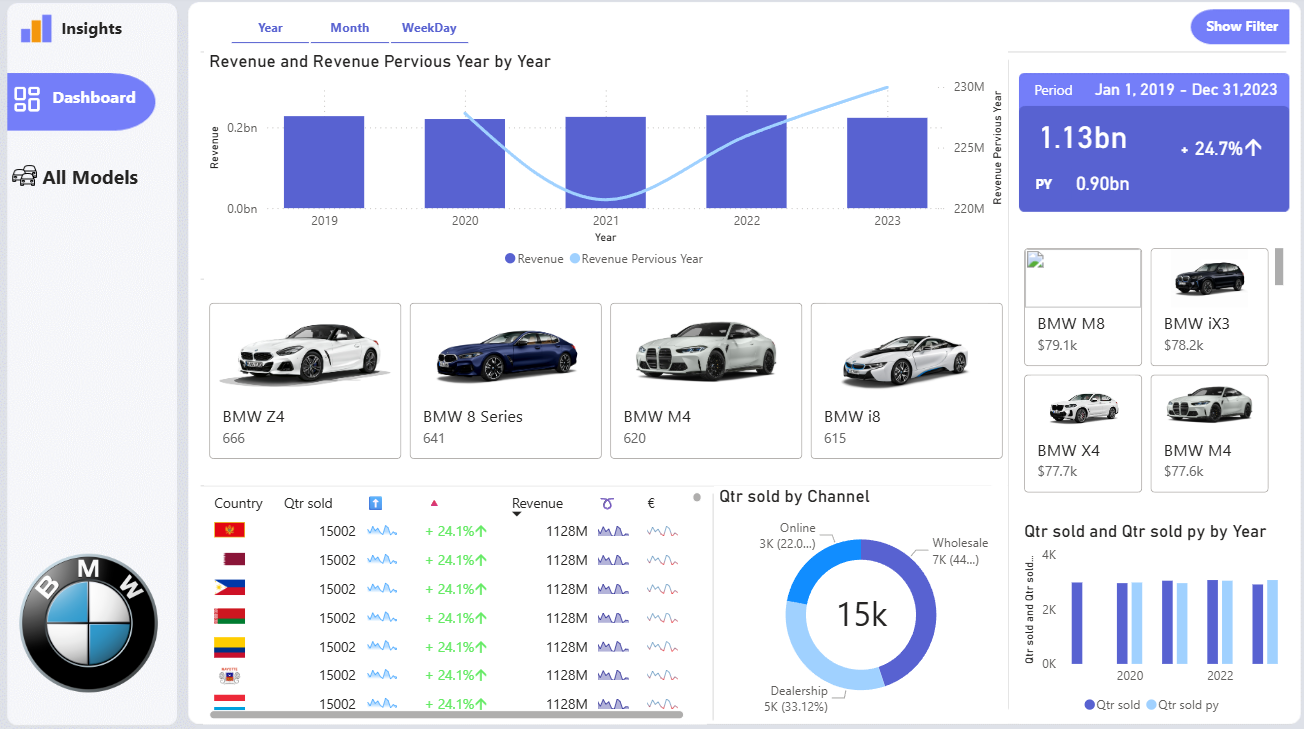

What the dashboard file says about the page in this screenshot:
{"tool":"powerbi","page":{"name":"Dashboard","canvas":[1280,720],"ordinal":0},"visuals":[{"type":"shape","box":[862.8,48.1,363.6,420.9],"z":0,"group":"g1"},{"type":"lineClusteredColumnComboChart","fields":{"Category":["Calendar.Year","Calendar.Month","Calendar.WeekDay"],"Y":["All Measures.Revenue"],"Y2":["All Measures.Revenue Pervious Year"]},"box":[201.8,54,782.4,219.8],"z":0},{"type":"slicer","fields":{"Values":["Parameter.Parameter"]},"box":[201.8,7,281.8,47],"z":1000},{"type":"actionButton","box":[943.9,384.6,200.2,49.8],"z":1000,"group":"g1"},{"type":"card","fields":{"Values":["All Measures.Revenue"]},"box":[995.2,105.9,123.9,58],"z":2000},{"type":"slicer","fields":{"Values":["dimModel.Model"]},"box":[1061.9,206.1,149.3,92],"z":2000,"group":"g1"},{"type":"slicer","fields":{"Values":["dimChannel.Channel"]},"box":[884.4,114.1,150.4,87.6],"z":3000,"group":"g1"},{"type":"card","fields":{"Values":["All Measures.Revenue Pervious Year"]},"box":[1034.2,163.9,84.9,38],"z":3000},{"type":"textbox","box":[1005.2,166.9,41,31],"z":4000},{"type":"slicer","fields":{"Values":["dimCountry.Region"]},"box":[884.4,208.2,150.4,89.8],"z":4000,"group":"g1"},{"type":"card","fields":{"Values":["All Measures.Revenue Variance % Arrow"]},"box":[1129.1,125.9,119.9,46],"z":5000},{"type":"slicer","fields":{"Values":["dimCountry.Country"]},"box":[894.2,308.9,311.6,86.6],"z":5000,"group":"g1"},{"type":"actionButton","box":[894.2,69.7,41.1,30.3],"z":6000,"group":"g1"},{"type":"card","fields":{"Values":["All Measures.Selected Period"]},"box":[1036.2,76.9,243.8,29],"z":6000},{"type":"textbox","box":[1005.2,76.9,58,33],"z":7000},{"type":"slicer","fields":{"Values":["Calendar.Year"]},"box":[1061.9,117.3,150.4,82.2],"z":7000,"group":"g1"},{"type":"advancedSlicerVisual","fields":{"Values":["dimModel.Model"]},"box":[201.8,273.8,782.4,202.8],"z":8000},{"type":"advancedSlicerVisual","fields":{"Values":["dimModel.Model"]},"box":[995,240,262,249],"z":9000},{"type":"clusteredColumnChart","fields":{"Y":["All Measures.Qtr sold","All Measures.Qtr sold py"],"Category":["Calendar.Year"]},"box":[995,511,262,197],"z":10000},{"type":"donutChart","fields":{"Y":["All Measures.Qtr sold"],"Category":["dimChannel.Channel"]},"box":[698.4,476.6,286,231.5],"z":11000},{"type":"textbox","box":[800.5,572.9,82.7,61.3],"z":12000},{"type":"tableEx","fields":{"Values":["Countries with Flags URL.Flag","All Measures.Qtr sold","All Measures.Opaque Area Sparkline (no one value) bright","All Measures.Qtr sold Variance % Arrow","All Measures.Revenue","All Measures.Revenue Sparkline","All Measures.Qtr sold Sparkline"]},"box":[201.7,477.3,489.7,230.8],"z":13000},{"type":"textbox","box":[49.2,81.3,104.9,37.5],"z":14000},{"type":"image","box":[10.7,77.1,38.5,47.1],"z":15000},{"type":"textbox","box":[39.6,157.3,114.5,40.7],"z":16000},{"type":"image","box":[6.4,157.3,42.8,34.2],"z":17000},{"type":"actionButton","box":[6.4,154.1,139.1,39.6],"z":18000},{"type":"actionButton","box":[1162.7,7.6,99.6,40.4],"z":19000},{"type":"group","id":"g1","title":"Group 1","box":[862.8,48.1,364.1,420.9],"z":20000},{"type":"image","box":[17.3,518.2,145.4,183],"z":21000},{"type":"image","box":[12.5,8.7,53.9,43.3],"z":22000},{"type":"textbox","box":[58.8,14.4,79,38.5],"z":23000}]}

Visuals, with their boxes in screenshot pixels (x1, y1, x2, y2), scaled from the page's 1280x720 canvas onto the 1304x729 screenshot:
shape: [879, 49, 1249, 475]
lineClusteredColumnComboChart - Calendar.Year x Calendar.Month: [206, 55, 1003, 277]
slicer - Parameter.Parameter: [206, 7, 493, 55]
actionButton: [962, 389, 1166, 440]
card - All Measures.Revenue: [1014, 107, 1140, 166]
slicer - dimModel.Model: [1082, 209, 1234, 302]
slicer - dimChannel.Channel: [901, 116, 1054, 204]
card - All Measures.Revenue Pervious Year: [1054, 166, 1140, 204]
textbox: [1024, 169, 1066, 200]
slicer - dimCountry.Region: [901, 211, 1054, 302]
card - All Measures.Revenue Variance % Arrow: [1150, 127, 1272, 174]
slicer - dimCountry.Country: [911, 313, 1228, 400]
actionButton: [911, 71, 953, 101]
card - All Measures.Selected Period: [1056, 78, 1303, 107]
textbox: [1024, 78, 1083, 111]
slicer - Calendar.Year: [1082, 119, 1235, 202]
advancedSlicerVisual - dimModel.Model: [206, 277, 1003, 483]
advancedSlicerVisual - dimModel.Model: [1014, 243, 1281, 495]
clusteredColumnChart - All Measures.Qtr sold x All Measures.Qtr sold py: [1014, 517, 1281, 717]
donutChart - All Measures.Qtr sold x dimChannel.Channel: [711, 483, 1003, 717]
textbox: [816, 580, 900, 642]
tableEx - Countries with Flags URL.Flag x All Measures.Qtr sold: [205, 483, 704, 717]
textbox: [50, 82, 157, 120]
image: [11, 78, 50, 126]
textbox: [40, 159, 157, 200]
image: [7, 159, 50, 194]
actionButton: [7, 156, 148, 196]
actionButton: [1185, 8, 1286, 49]
"Group 1" group: [879, 49, 1250, 475]
image: [18, 525, 166, 710]
image: [13, 9, 68, 53]
textbox: [60, 15, 140, 54]
